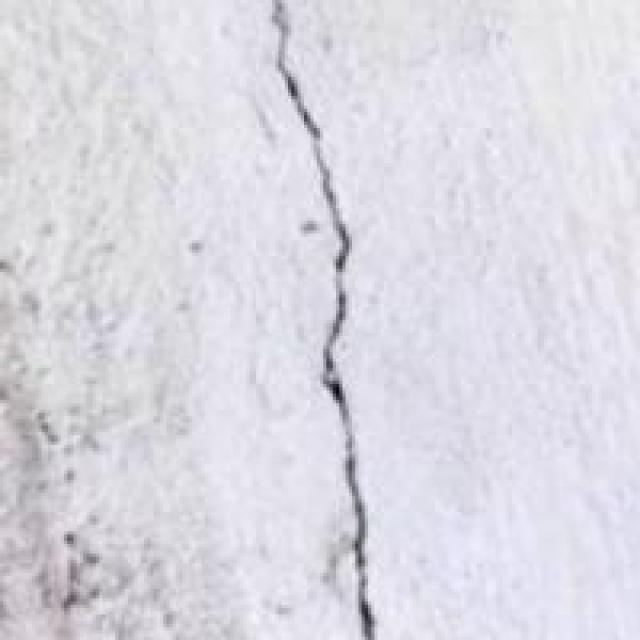crack: (240, 3, 458, 637)
